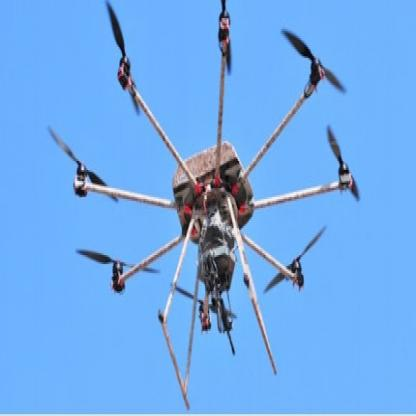drone: (34, 4, 377, 346)
